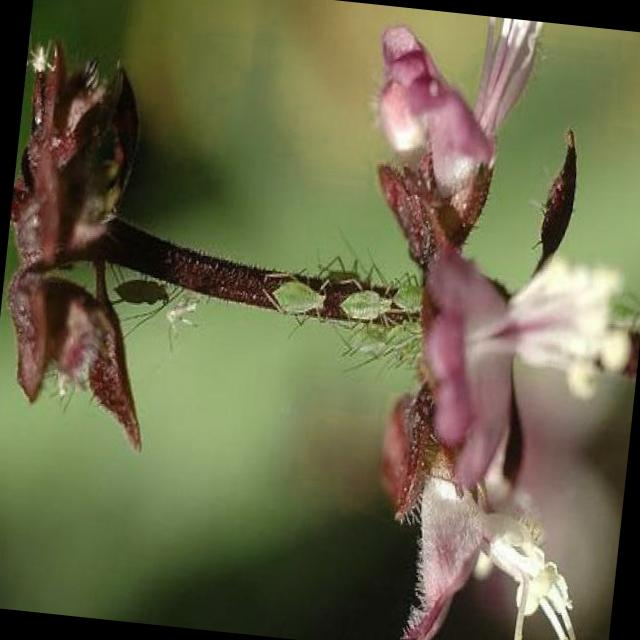aphid: (251, 256, 424, 333), (102, 265, 178, 319)
